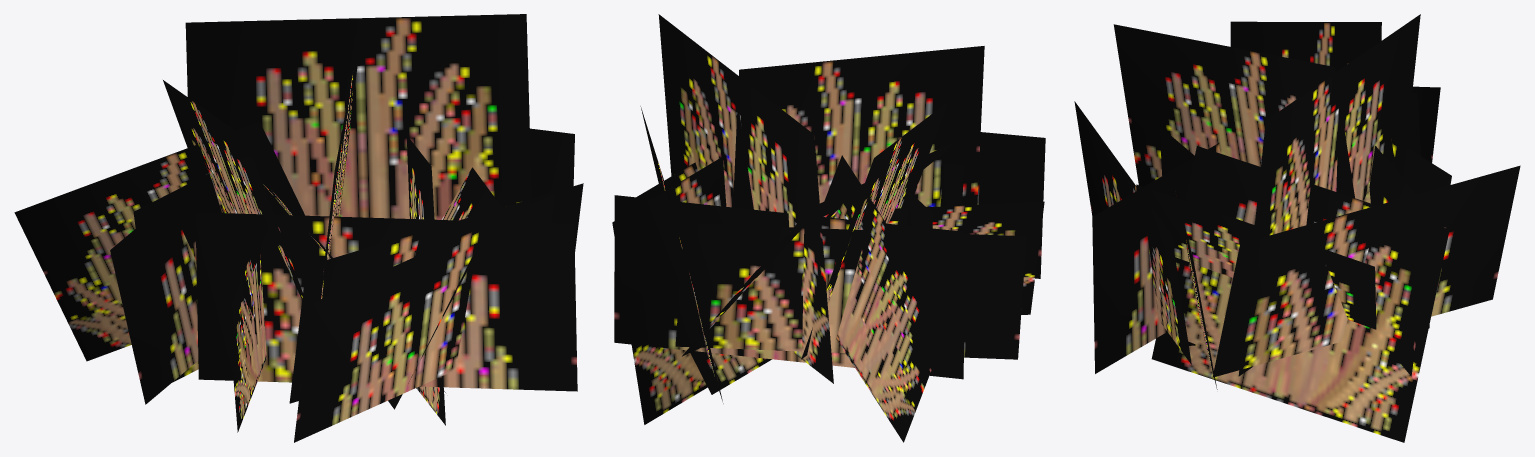
File: P_Weed01.obj
3 renders of one model, left to right at view 1: azimuth 30°, elevation 25°; view 2: azimuth 150°, elevation 25°; view 3: azimuth 270°, elevation 25°, orthographic. The views are drawn at different scales.
Bounding box in the file's own units: 1.47 × 1.19 × 1.38.
